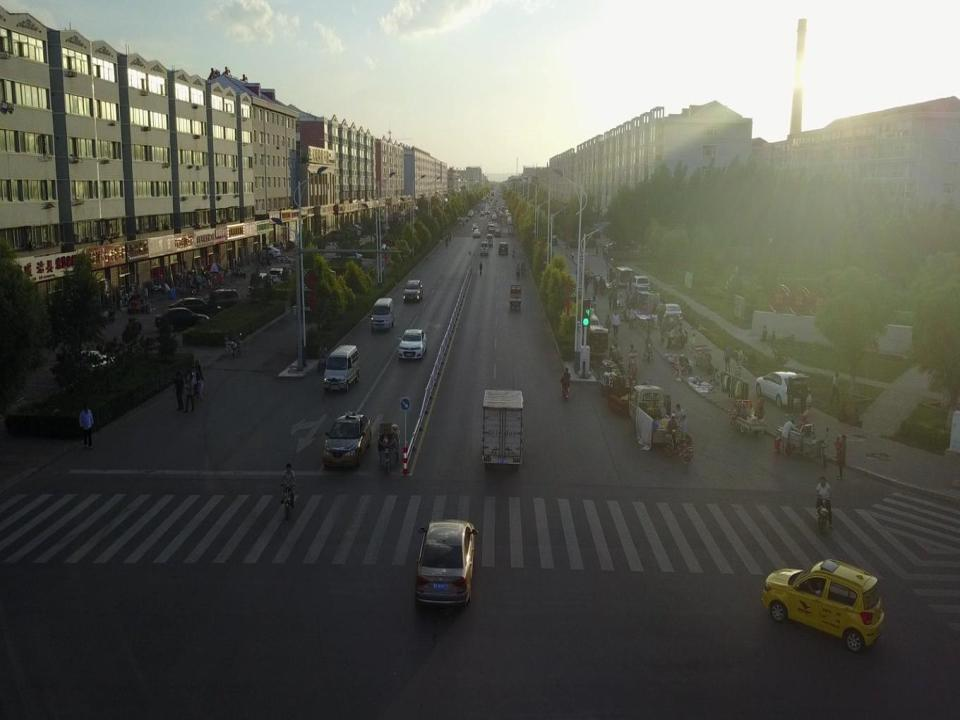car: (760, 557, 887, 652), (413, 518, 480, 610), (322, 410, 372, 468), (755, 371, 812, 410), (154, 308, 210, 333), (71, 348, 117, 378), (168, 298, 222, 318), (200, 288, 241, 313), (397, 329, 427, 360), (660, 303, 684, 326), (402, 279, 423, 303), (250, 273, 273, 291), (332, 252, 364, 264), (259, 245, 281, 259), (269, 268, 284, 284), (498, 241, 510, 255), (472, 229, 481, 238), (471, 222, 479, 231), (494, 229, 502, 237), (486, 222, 494, 230), (488, 224, 495, 233)
truck: (480, 388, 524, 470), (660, 312, 688, 346)
van: (323, 344, 360, 392), (370, 298, 394, 334), (587, 324, 609, 357), (608, 265, 632, 287), (628, 275, 650, 295), (480, 241, 488, 256), (486, 233, 494, 246)
